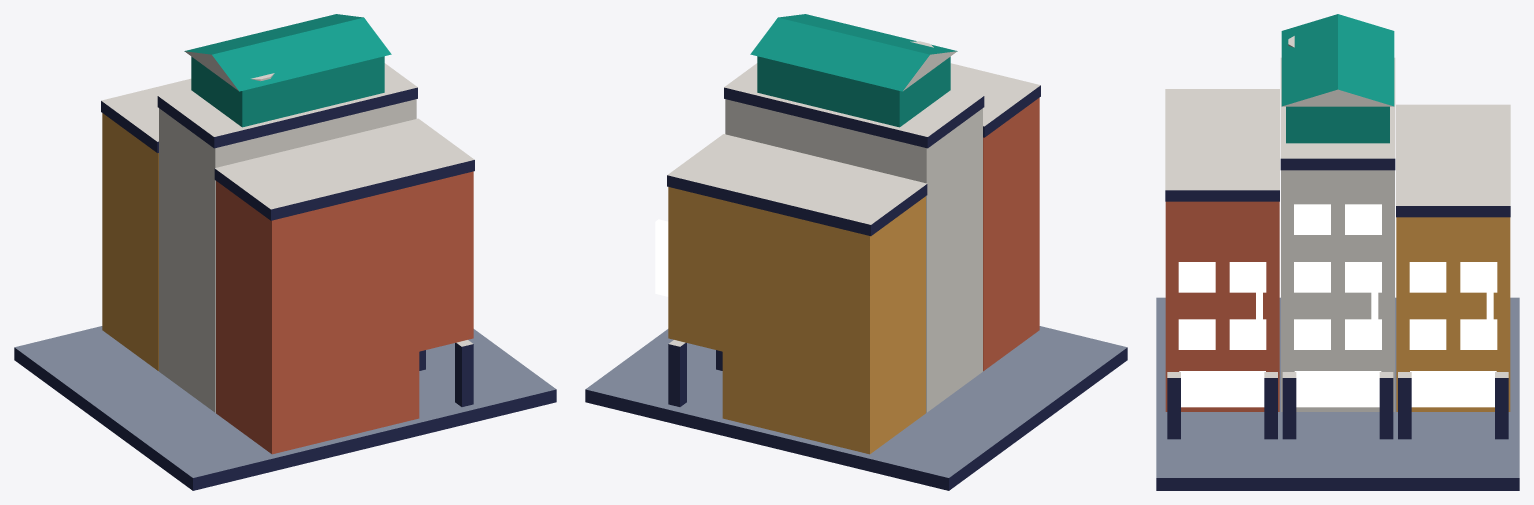
Rendered from building-shophouse-arcade.glb.
3 renders of one model, left to right at view 1: azimuth 30°, elevation 25°; view 2: azimuth 150°, elevation 25°; view 3: azimuth 270°, elevation 25°, orthographic.
Parts seen in each view (by area): view 1: building-shophouse-arcade_root; view 2: building-shophouse-arcade_root; view 3: building-shophouse-arcade_root.
Part boxes in pixels (x1=…): building-shophouse-arcade_root: x1=14, y1=14, x2=556, y2=490; building-shophouse-arcade_root: x1=585, y1=14, x2=1127, y2=490; building-shophouse-arcade_root: x1=1156, y1=14, x2=1519, y2=490.
Size of the model in its own units: 14.8 by 13.4 by 12.6.
2 materials, 2 textured.
